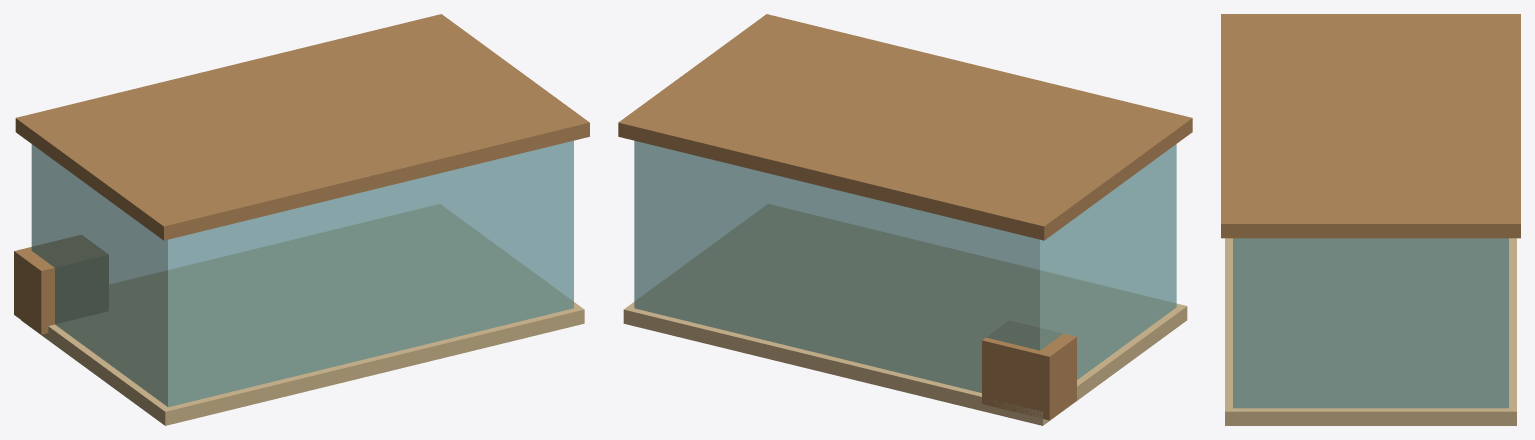
The model's file is Climate-controlled-greenhouse.glb.
3 renders of one model, left to right at view 1: azimuth 30°, elevation 25°; view 2: azimuth 150°, elevation 25°; view 3: azimuth 270°, elevation 25°, orthographic.
Visible parts, largest first — view 1: climate-controlled-greenhouse-static-greenhouse-glass, climate-controlled-greenhouse-static-greenhouse-frame, climate-controlled-greenhouse-static-greenhouse-stone; view 2: climate-controlled-greenhouse-static-greenhouse-glass, climate-controlled-greenhouse-static-greenhouse-frame, climate-controlled-greenhouse-static-greenhouse-stone; view 3: climate-controlled-greenhouse-static-greenhouse-frame, climate-controlled-greenhouse-static-greenhouse-stone, climate-controlled-greenhouse-static-greenhouse-glass.
Boxes of the visible parts, x1,y1,x2,y2 form: climate-controlled-greenhouse-static-greenhouse-glass: (31, 140, 573, 407); climate-controlled-greenhouse-static-greenhouse-frame: (14, 14, 589, 334); climate-controlled-greenhouse-static-greenhouse-stone: (21, 204, 584, 425); climate-controlled-greenhouse-static-greenhouse-glass: (634, 140, 1176, 392); climate-controlled-greenhouse-static-greenhouse-frame: (618, 14, 1192, 420); climate-controlled-greenhouse-static-greenhouse-stone: (623, 204, 1187, 425); climate-controlled-greenhouse-static-greenhouse-frame: (1221, 14, 1520, 238); climate-controlled-greenhouse-static-greenhouse-stone: (1225, 238, 1516, 425); climate-controlled-greenhouse-static-greenhouse-glass: (1233, 238, 1508, 408).
Bounding box in the file's own units: 6.35 × 2.85 × 3.8.
